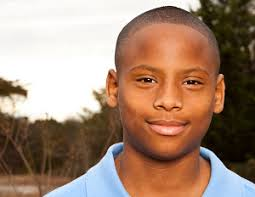person: (105, 5, 226, 162)
